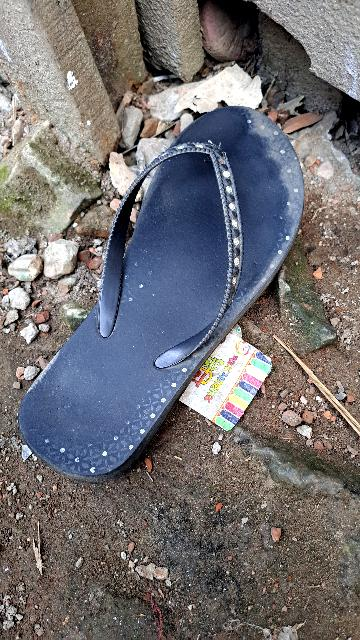sandal: (0, 72, 360, 505)
